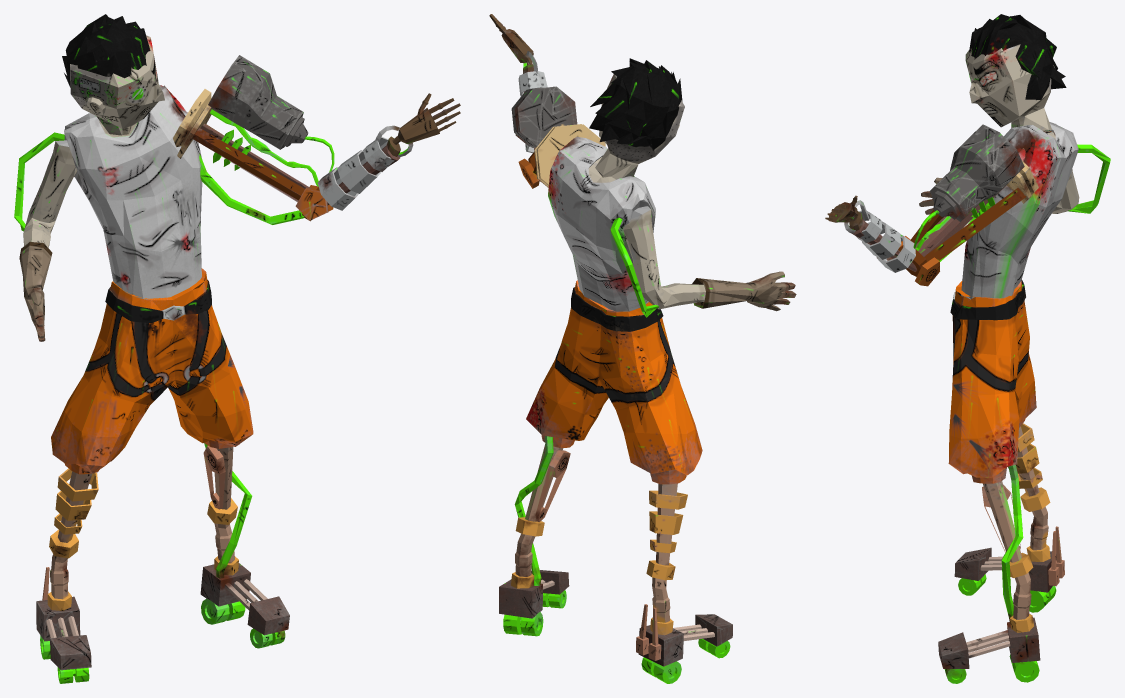
File: CyborgFINALAnimation_000031.obj
3 views of the same model, side by side, from view 1: azimuth 30°, elevation 25°; view 2: azimuth 150°, elevation 25°; view 3: azimuth 270°, elevation 25° (orthographic). The views are drawn at different scales.
Visible parts, largest first — view 1: CyborgMesh_Cube.002; view 2: CyborgMesh_Cube.002; view 3: CyborgMesh_Cube.002.
Part boxes in pixels (bbox=[...]): CyborgMesh_Cube.002: bbox=[14, 14, 460, 683]; CyborgMesh_Cube.002: bbox=[489, 14, 796, 683]; CyborgMesh_Cube.002: bbox=[825, 14, 1110, 683].
Size of the model in its own units: 5.83 by 9.53 by 4.06.
